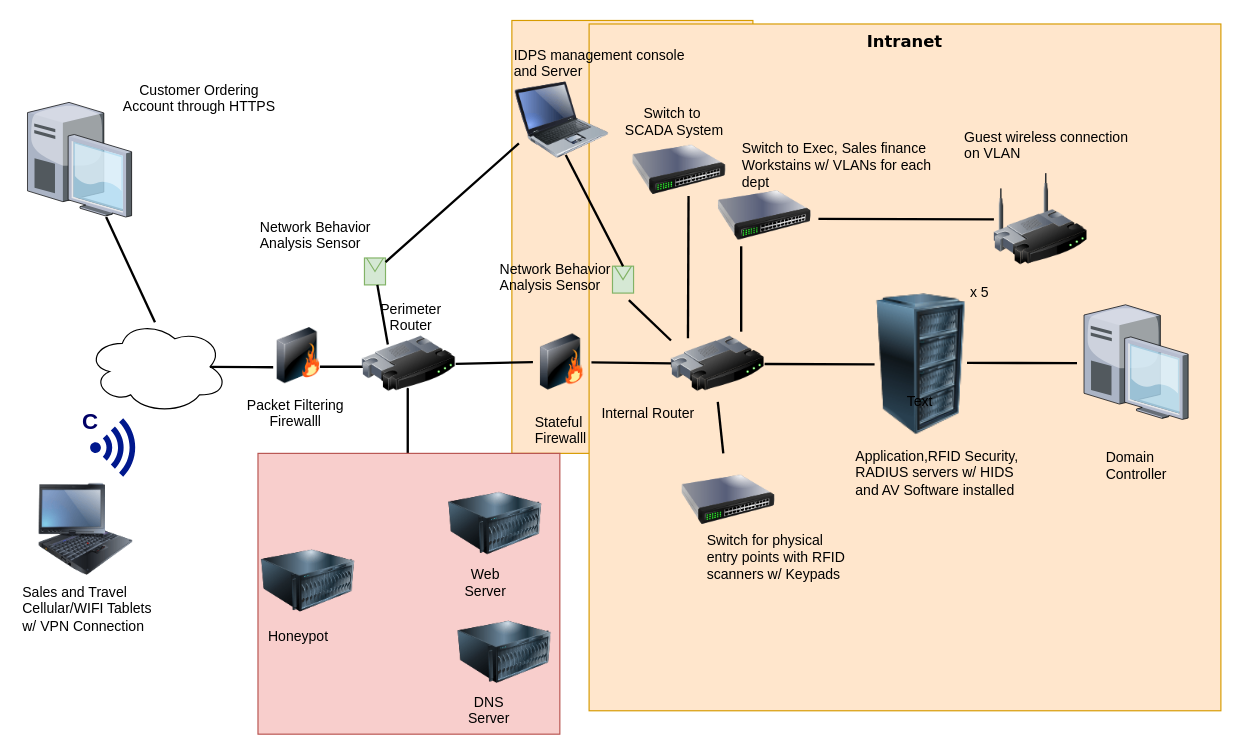
Image size: 1241x755. Some labels were removed from this diagram. The shapes that lost their labels are listed below. From the top down, each one's box as (x1, y1, x2, y2) in pixels, then its label:
(86, 319, 228, 414): Internet
(257, 452, 560, 734): DMZ
